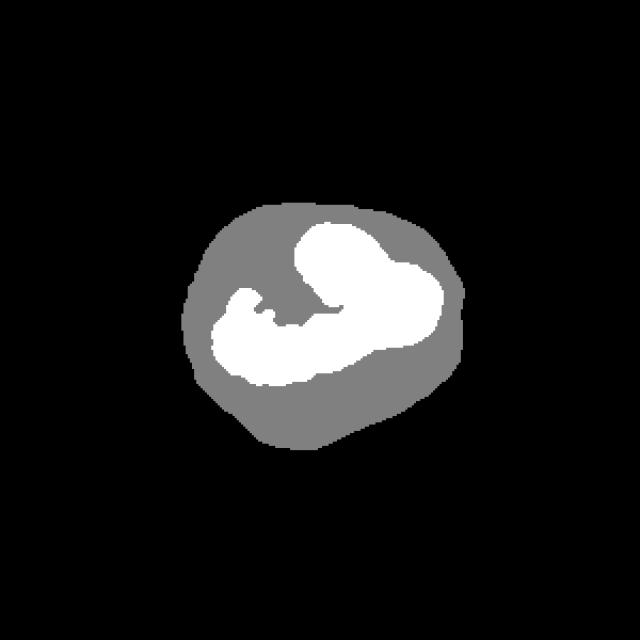WBC: (145, 185, 497, 476)
